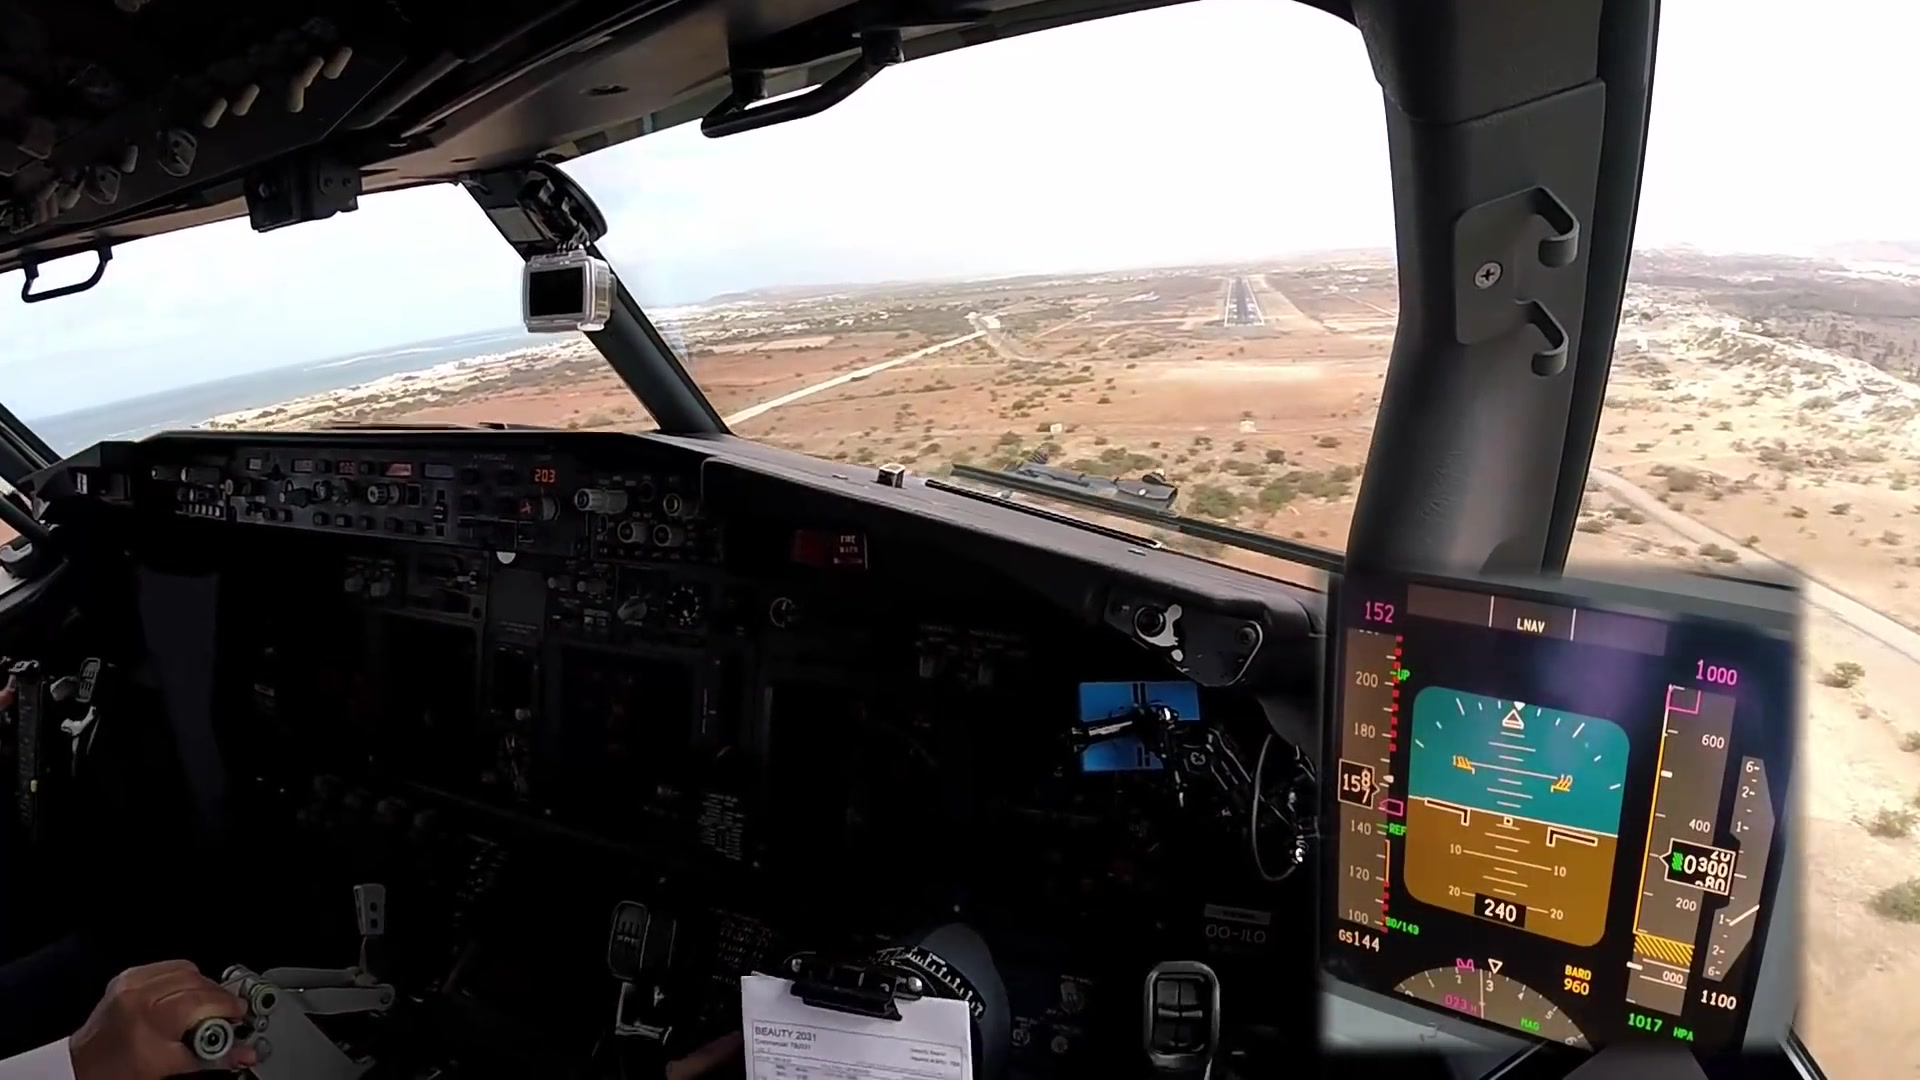runway: (1222, 276, 1265, 328)
